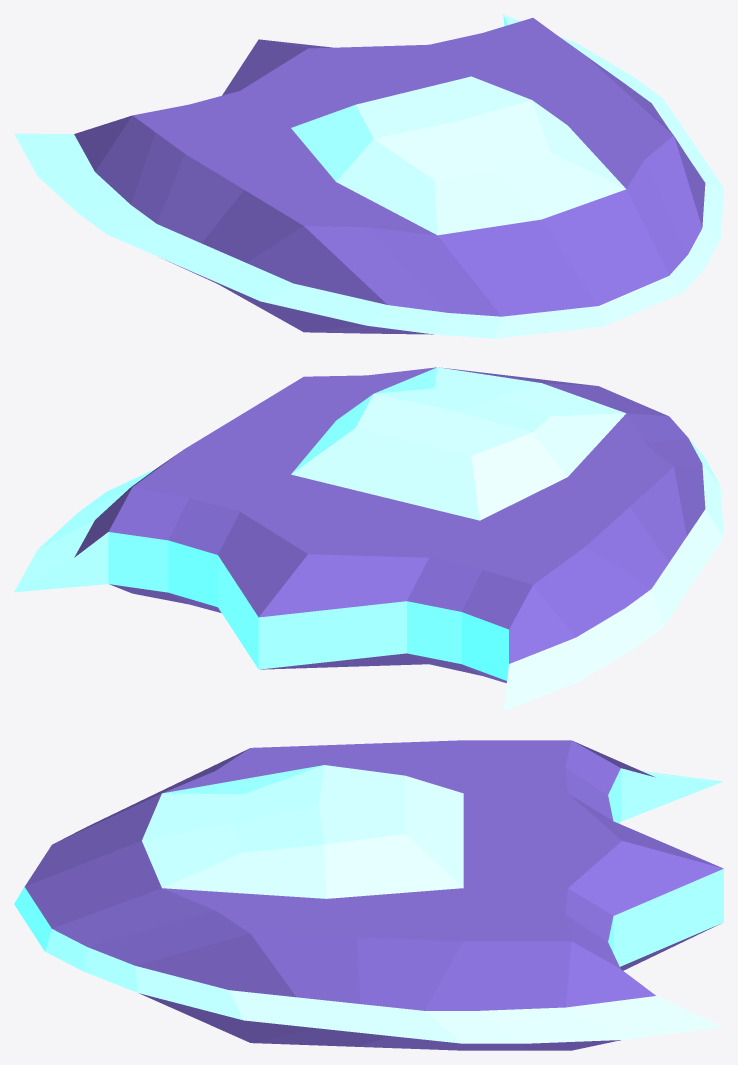
The model's file is glider.glb.
The picture shows the model from 3 angles, top to bottom: view 1: azimuth 30°, elevation 25°; view 2: azimuth 150°, elevation 25°; view 3: azimuth 270°, elevation 25°; orthographic projection. The views are drawn at different scales.
Parts seen in each view (by area): view 1: Cube; view 2: Cube; view 3: Cube.
Boxes of the visible parts, x1=… form: Cube: x1=14, y1=14, x2=723, y2=338; Cube: x1=14, y1=367, x2=723, y2=711; Cube: x1=14, y1=740, x2=723, y2=1050.
Bounding box in the file's own units: 0.9088 × 0.2207 × 0.9765.
